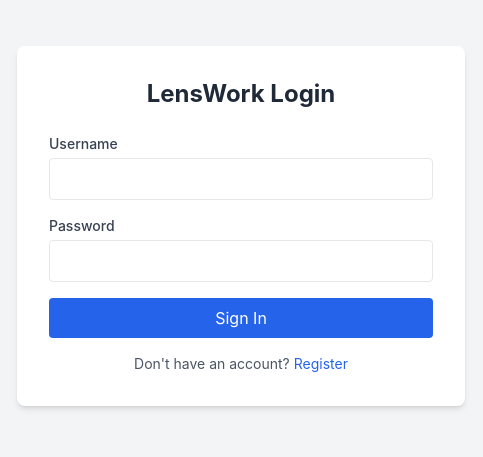
it: LoginPage › shows error message on login failure
The image size is (483, 457).
Type "alice" into the field.
click(241, 179); type("alice")  # box top-left (49, 158), bottom-right (433, 200)
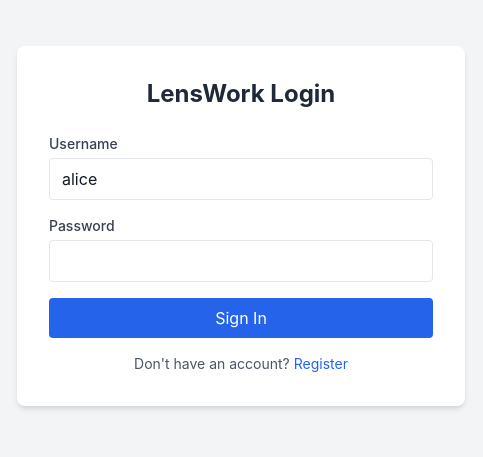
Type "wrong" into the password field.
click(241, 261); type("wrong")  # box top-left (49, 240), bottom-right (433, 282)
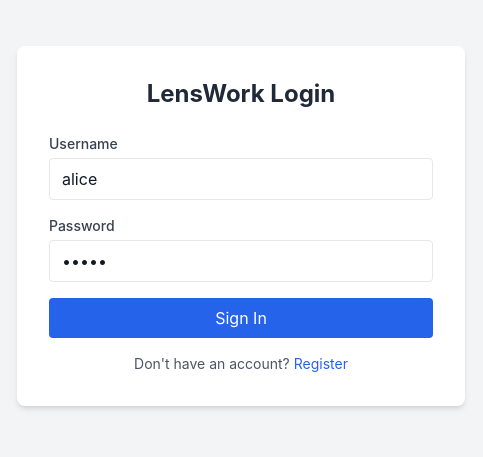
Click the button "Sign In".
click(241, 318)  # box top-left (49, 298), bottom-right (433, 338)
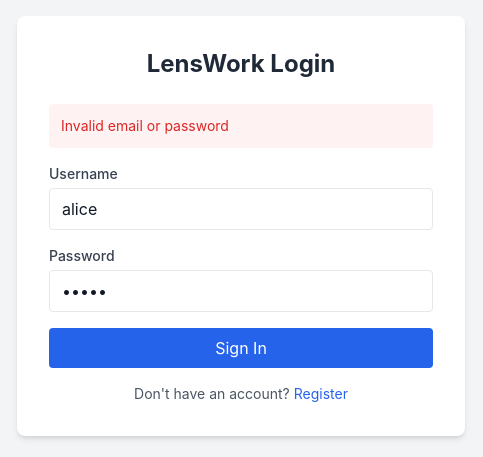
Check: the text "Invalid email or password" is shown, box top-left (49, 104), bottom-right (433, 148)
